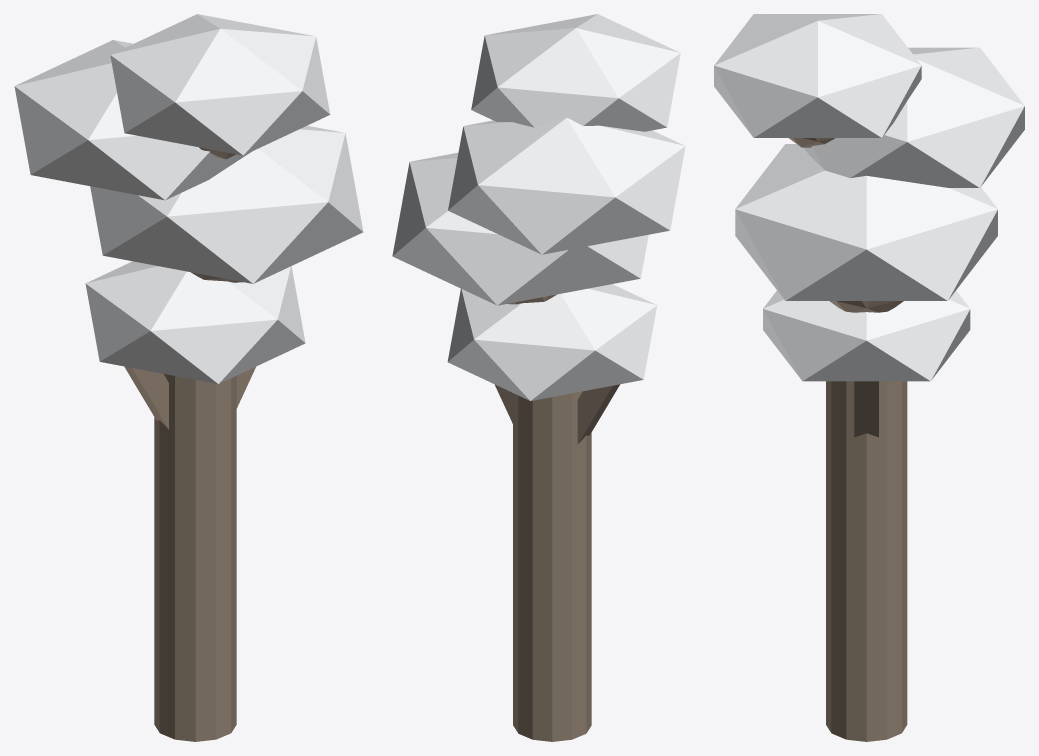
Rendered from oak_tree_winter.glb.
The picture shows the model from 3 angles, left to right: view 1: azimuth 30°, elevation 25°; view 2: azimuth 150°, elevation 25°; view 3: azimuth 270°, elevation 25°; orthographic projection. The views are drawn at different scales.
Parts seen in each view (by area): view 1: OakTree_Winter; view 2: OakTree_Winter; view 3: OakTree_Winter.
Boxes of the visible parts, x1=… form: OakTree_Winter: x1=14, y1=14, x2=363, y2=741; OakTree_Winter: x1=392, y1=14, x2=685, y2=741; OakTree_Winter: x1=714, y1=14, x2=1024, y2=741.
Size of the model in its own units: 0.412 by 0.955 by 0.3822.
